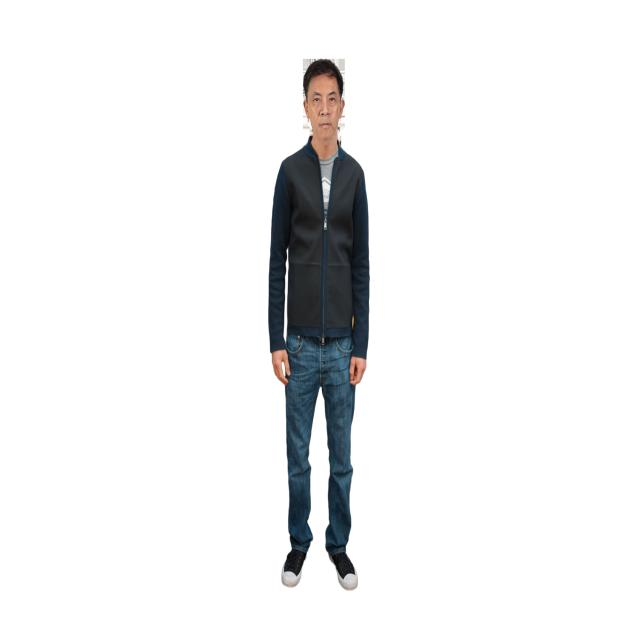jovem: (247, 50, 389, 617)
